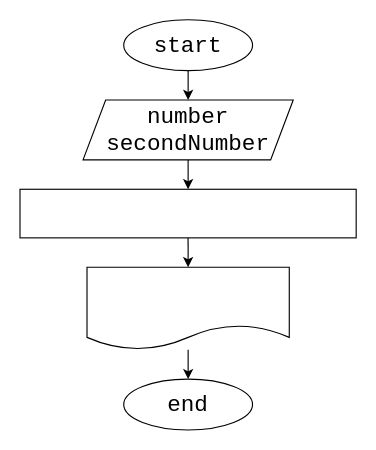
Some shapes in this 376 by 450 pixel diagram are drawn without their labels. Each missing label, with the box of its shape:
Convert.ToString(Number): (19, 188, 356, 238)
Вывод secondNumber: (86, 266, 289, 350)
